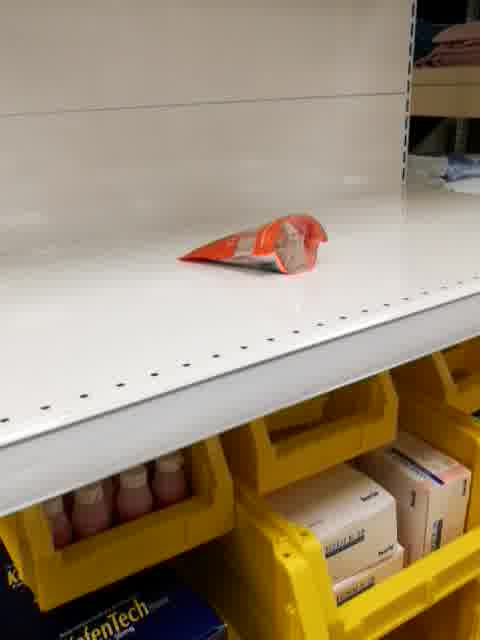whitechia: (173, 210, 328, 277)
